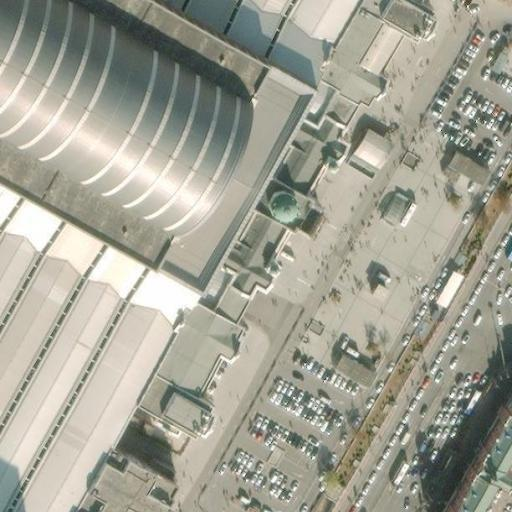building: (146, 66, 310, 295), (193, 132, 326, 321), (122, 294, 237, 436), (430, 376, 512, 512), (301, 1, 375, 106), (58, 444, 167, 512), (289, 97, 351, 153), (342, 0, 423, 36), (346, 18, 391, 75), (445, 147, 492, 186), (330, 346, 376, 385), (433, 264, 467, 307)
